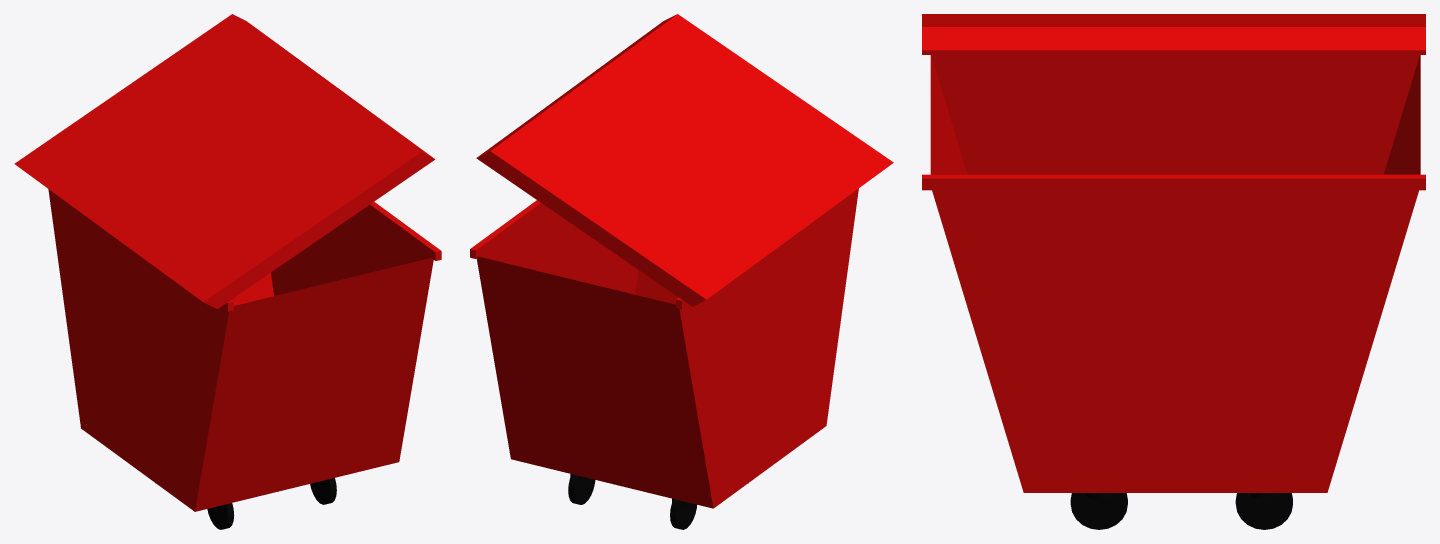
Rendered from binbig.fbx.
The picture shows the model from 3 angles, left to right: view 1: azimuth 30°, elevation 25°; view 2: azimuth 150°, elevation 25°; view 3: azimuth 270°, elevation 25°; orthographic projection. The views are drawn at different scales.
Parts seen in each view (by area): view 1: pCube5; view 2: pCube5; view 3: pCube5.
Part boxes in pixels (bbox=[...]): pCube5: bbox=[14, 14, 441, 529]; pCube5: bbox=[470, 14, 893, 529]; pCube5: bbox=[922, 14, 1425, 529].
Bounding box in the file's own units: 0.5901 × 0.9248 × 0.8092.
